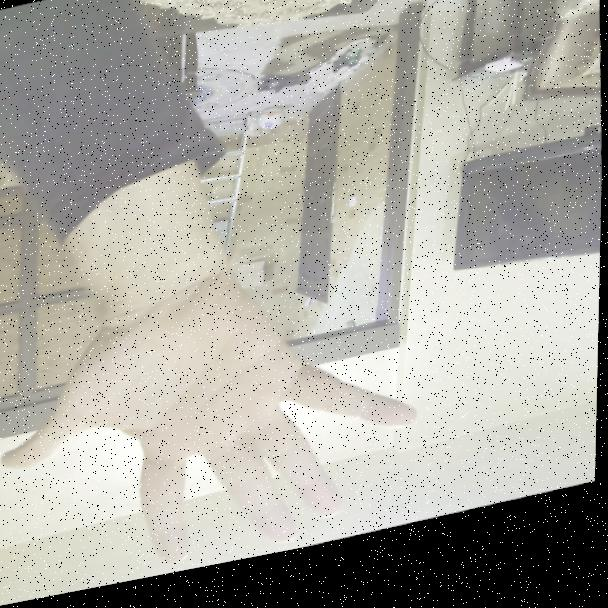five: (0, 244, 432, 607)
